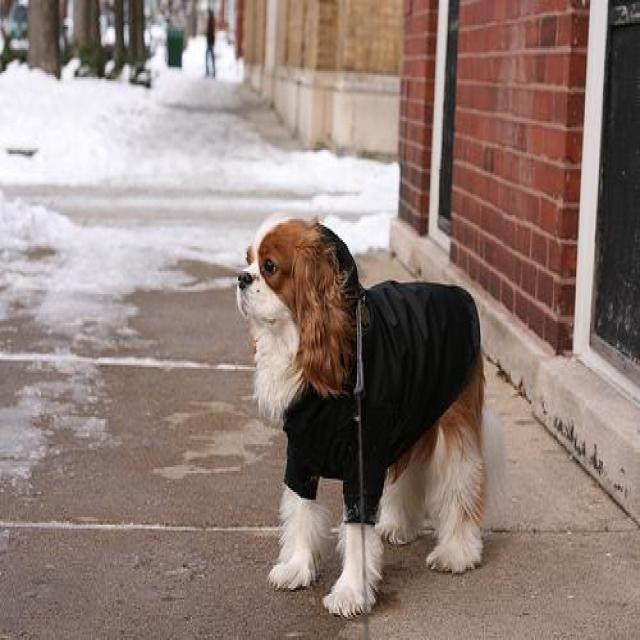blenheim_spaniel: (234, 213, 488, 615)
